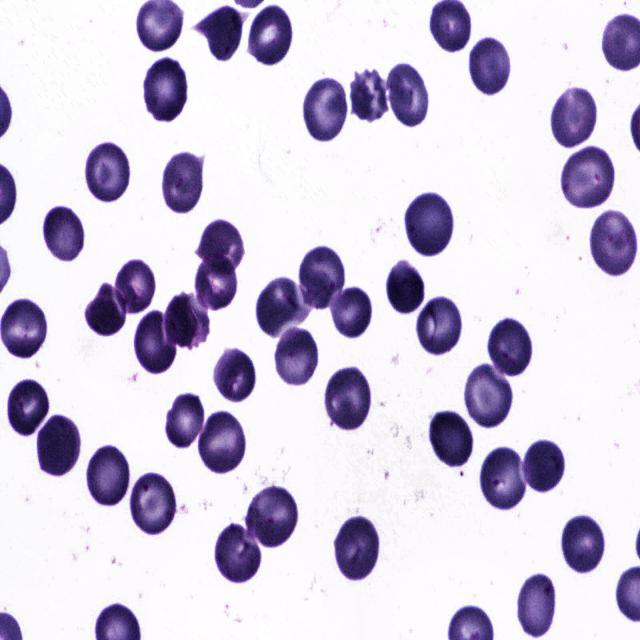red blood cell: (404, 190, 457, 259), (560, 145, 616, 210), (140, 53, 190, 125), (588, 208, 639, 278), (254, 275, 312, 336), (195, 408, 247, 476), (323, 364, 375, 432), (333, 512, 382, 584), (245, 2, 295, 71), (464, 361, 514, 430), (477, 446, 529, 512), (245, 486, 299, 549), (300, 76, 348, 144), (129, 472, 179, 537), (272, 323, 321, 389), (34, 411, 82, 478), (83, 141, 133, 205), (211, 523, 263, 584), (413, 296, 465, 357), (550, 84, 598, 150), (298, 243, 345, 310), (486, 317, 536, 379), (559, 512, 609, 574), (0, 296, 48, 360), (386, 59, 429, 130), (514, 571, 558, 640), (85, 444, 131, 509), (428, 406, 475, 469), (162, 149, 206, 216), (133, 310, 178, 375), (192, 4, 242, 62), (468, 33, 513, 96), (164, 292, 212, 350), (193, 251, 240, 310), (4, 376, 49, 437), (212, 345, 257, 406), (196, 219, 246, 273), (164, 388, 207, 450), (42, 202, 87, 261), (522, 436, 566, 495), (84, 278, 127, 336), (349, 67, 392, 124), (386, 258, 428, 316), (330, 285, 374, 340), (114, 258, 156, 312)
